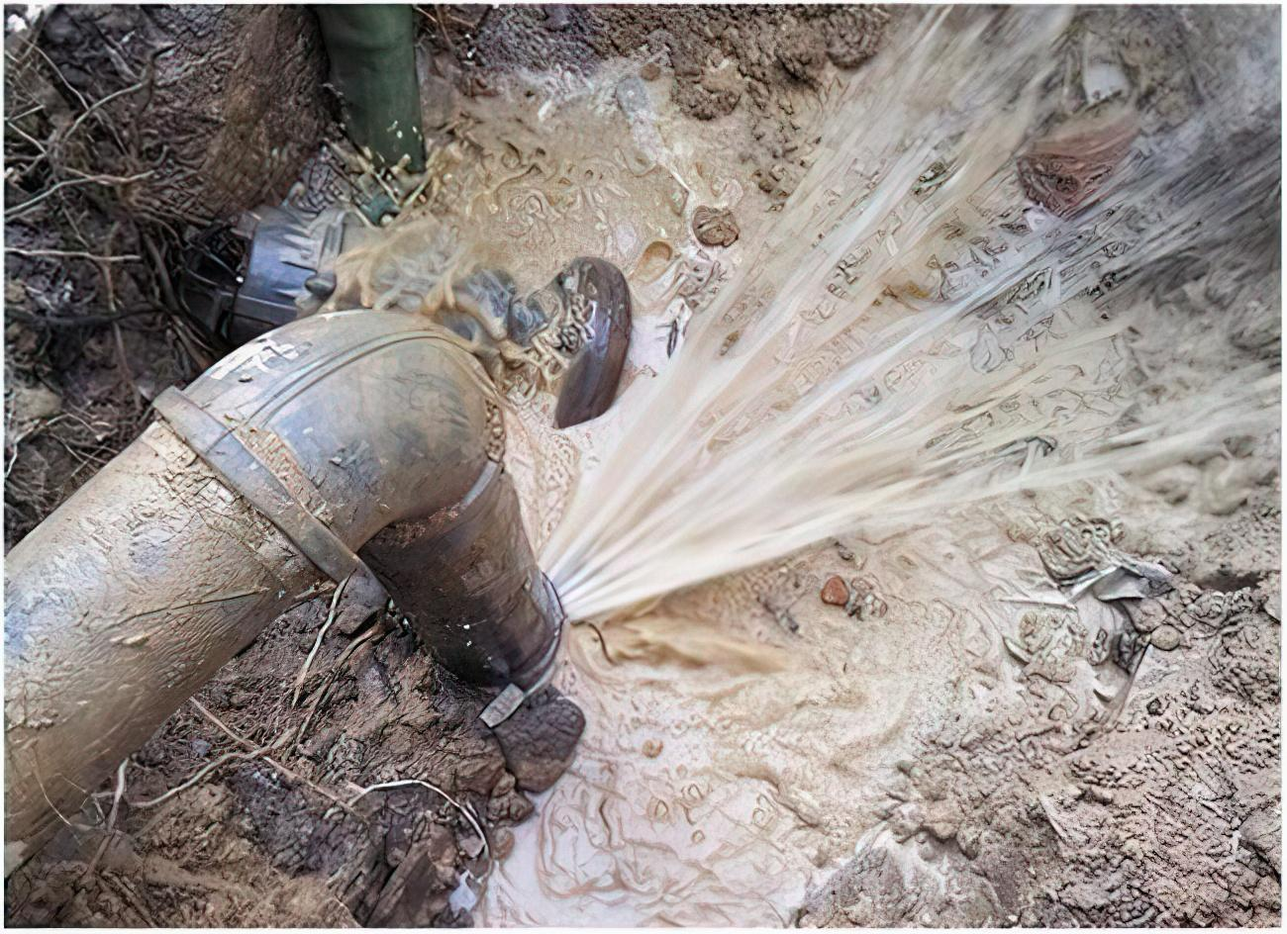pipe burst: (528, 6, 1283, 626)
water accumulation: (302, 101, 1255, 934)
